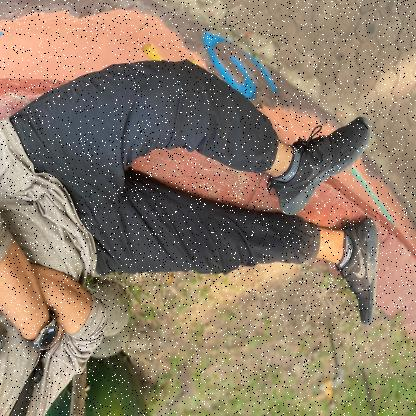leg: (186, 59, 384, 216), (250, 200, 416, 359)
